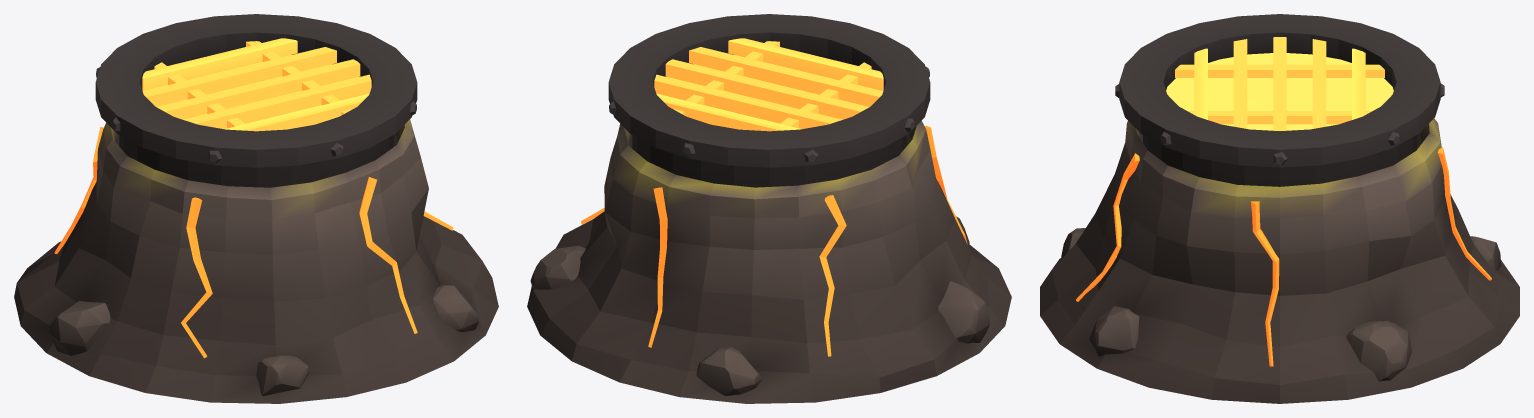
File: bounce_vent.glb
The picture shows the model from 3 angles, left to right: view 1: azimuth 30°, elevation 25°; view 2: azimuth 150°, elevation 25°; view 3: azimuth 270°, elevation 25°; orthographic projection.
Visible parts, largest first — view 1: bounce_vent, top; view 2: bounce_vent, top; view 3: bounce_vent, top.
Boxes of the visible parts, x1,y1,x2,y2 form: bounce_vent: (14, 119, 498, 403); top: (95, 14, 417, 187); bounce_vent: (527, 120, 1011, 403); top: (608, 14, 930, 187); bounce_vent: (1040, 118, 1519, 403); top: (1115, 14, 1444, 186).
Size of the model in its own units: 1.6 by 0.8 by 1.58.
